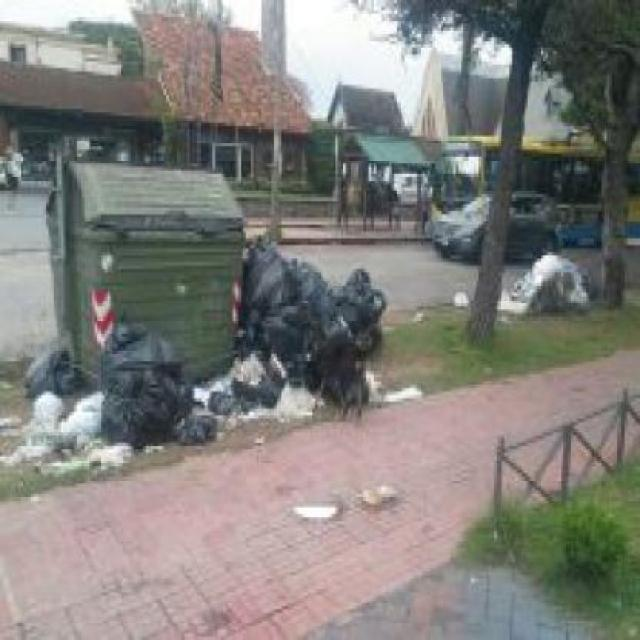garbage: (223, 232, 387, 443), (20, 323, 220, 446)
